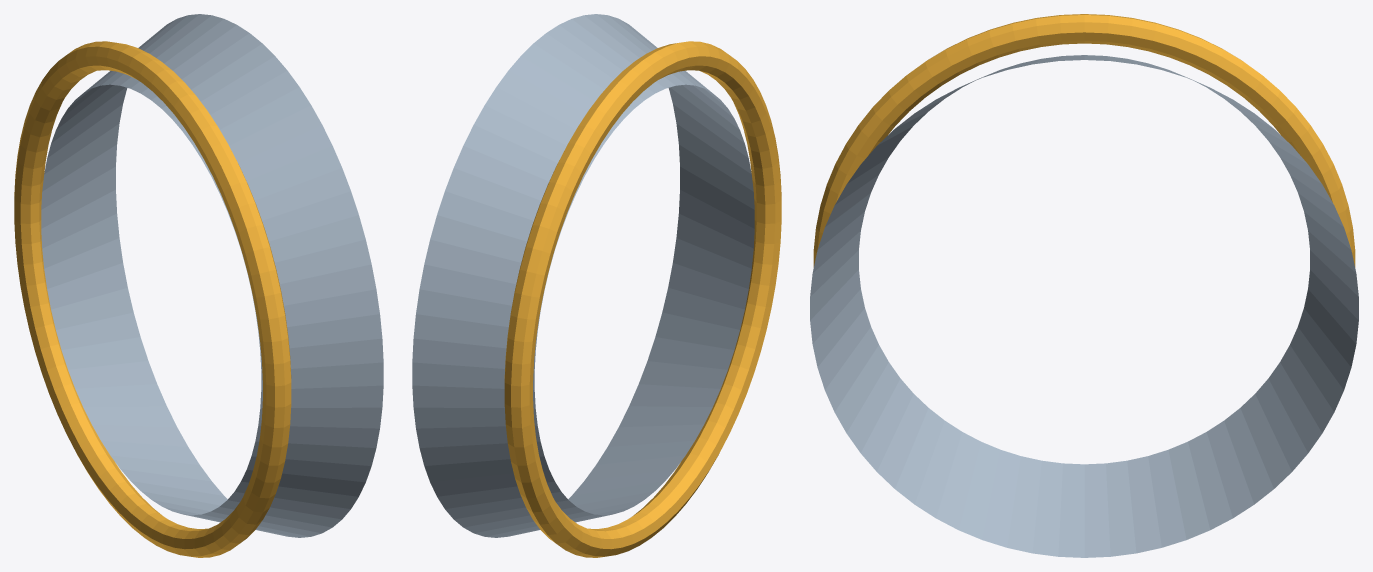
Rendered from 05_L85_DockingPassiveCaptureCone.fbx.
3 renders of one model, left to right at view 1: azimuth 30°, elevation 25°; view 2: azimuth 150°, elevation 25°; view 3: azimuth 270°, elevation 25°, orthographic. The views are drawn at different scales.
Visible parts, largest first — view 1: L85_DockingPassiveCaptureCone_Part_0000, L85_DockingPassiveCaptureCone_Part_0001; view 2: L85_DockingPassiveCaptureCone_Part_0000, L85_DockingPassiveCaptureCone_Part_0001; view 3: L85_DockingPassiveCaptureCone_Part_0000, L85_DockingPassiveCaptureCone_Part_0001.
Part boxes in pixels (x1,y1,x2,y2): L85_DockingPassiveCaptureCone_Part_0000: (41,14,383,537); L85_DockingPassiveCaptureCone_Part_0001: (14,41,291,557); L85_DockingPassiveCaptureCone_Part_0000: (412,14,754,537); L85_DockingPassiveCaptureCone_Part_0001: (504,41,781,557); L85_DockingPassiveCaptureCone_Part_0000: (810,55,1358,557); L85_DockingPassiveCaptureCone_Part_0001: (813,14,1355,267).
Bounding box in the file's own units: 68.88 × 292 × 292.
